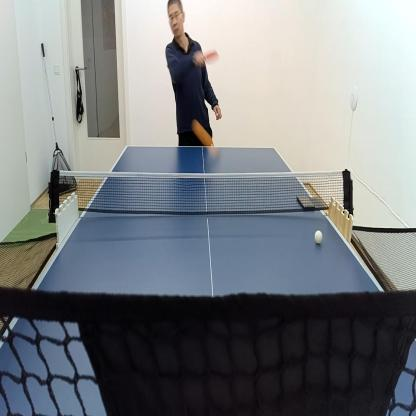Ball: (191, 116, 216, 157), (314, 229, 324, 246)
